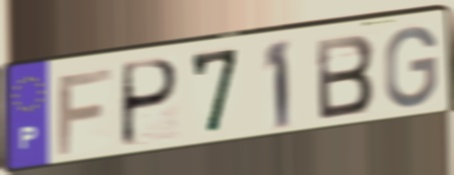1: (261, 39, 292, 131)
7: (189, 46, 241, 140)
B: (313, 31, 378, 123)
F: (55, 65, 114, 159)
G: (382, 23, 440, 110)
P: (118, 57, 182, 151)
